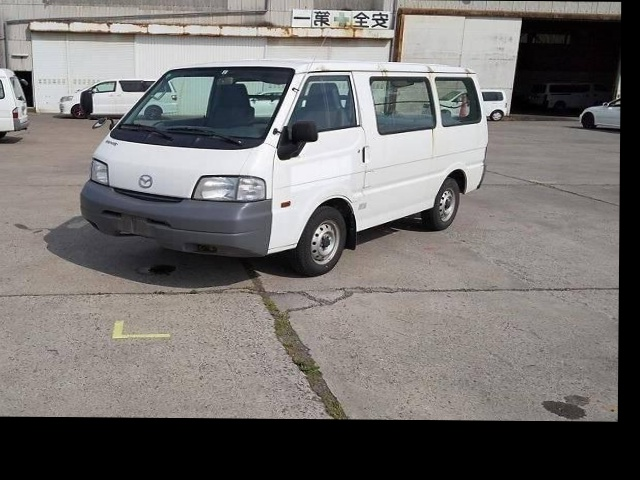van: (76, 59, 483, 265)
